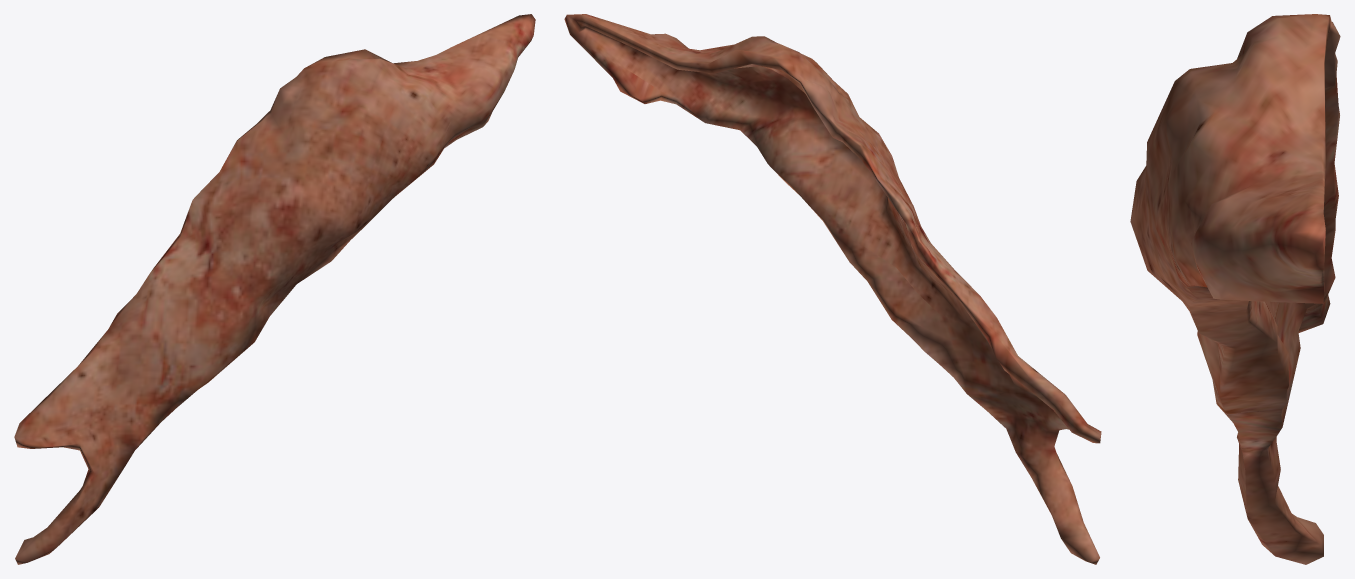
The model's file is Nasal_Chonchae_Dorsal.glb.
The picture shows the model from 3 angles, left to right: view 1: azimuth 30°, elevation 25°; view 2: azimuth 150°, elevation 25°; view 3: azimuth 270°, elevation 25°; orthographic projection. The views are drawn at different scales.
Parts seen in each view (by area): view 1: Nasal_Chronchae1; view 2: Nasal_Chronchae1; view 3: Nasal_Chronchae1.
Part boxes in pixels (bbox=[...]): Nasal_Chronchae1: bbox=[14, 14, 535, 564]; Nasal_Chronchae1: bbox=[564, 14, 1101, 564]; Nasal_Chronchae1: bbox=[1130, 14, 1340, 564].
Bounding box in the file's own units: 0.3092 × 0.2426 × 0.0551.
1 material, 1 textured.
